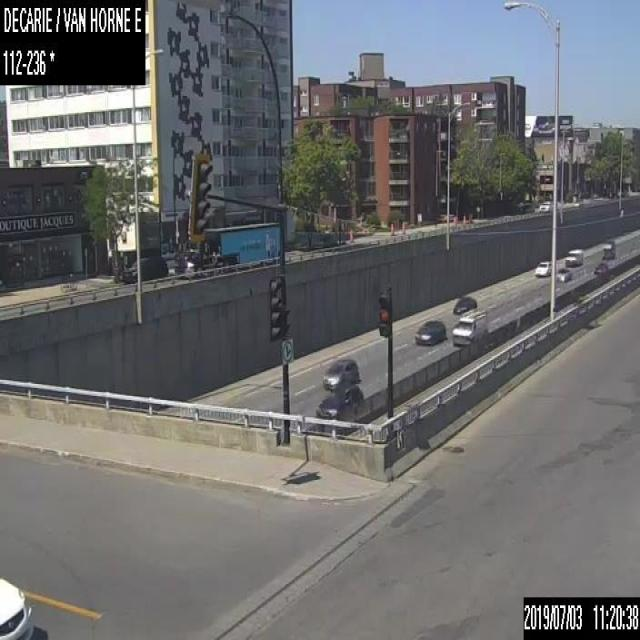construction: (347, 227, 353, 241), (389, 223, 395, 236), (401, 221, 405, 235), (462, 213, 465, 226), (453, 217, 456, 228)
vehicle: (175, 220, 280, 277), (0, 577, 35, 638), (314, 380, 364, 416), (120, 253, 168, 283), (451, 308, 487, 345), (321, 357, 359, 390), (414, 321, 445, 345), (452, 296, 476, 314), (534, 259, 552, 277), (565, 247, 582, 266), (554, 267, 570, 281), (602, 241, 614, 259), (593, 261, 608, 275), (538, 200, 552, 212)
